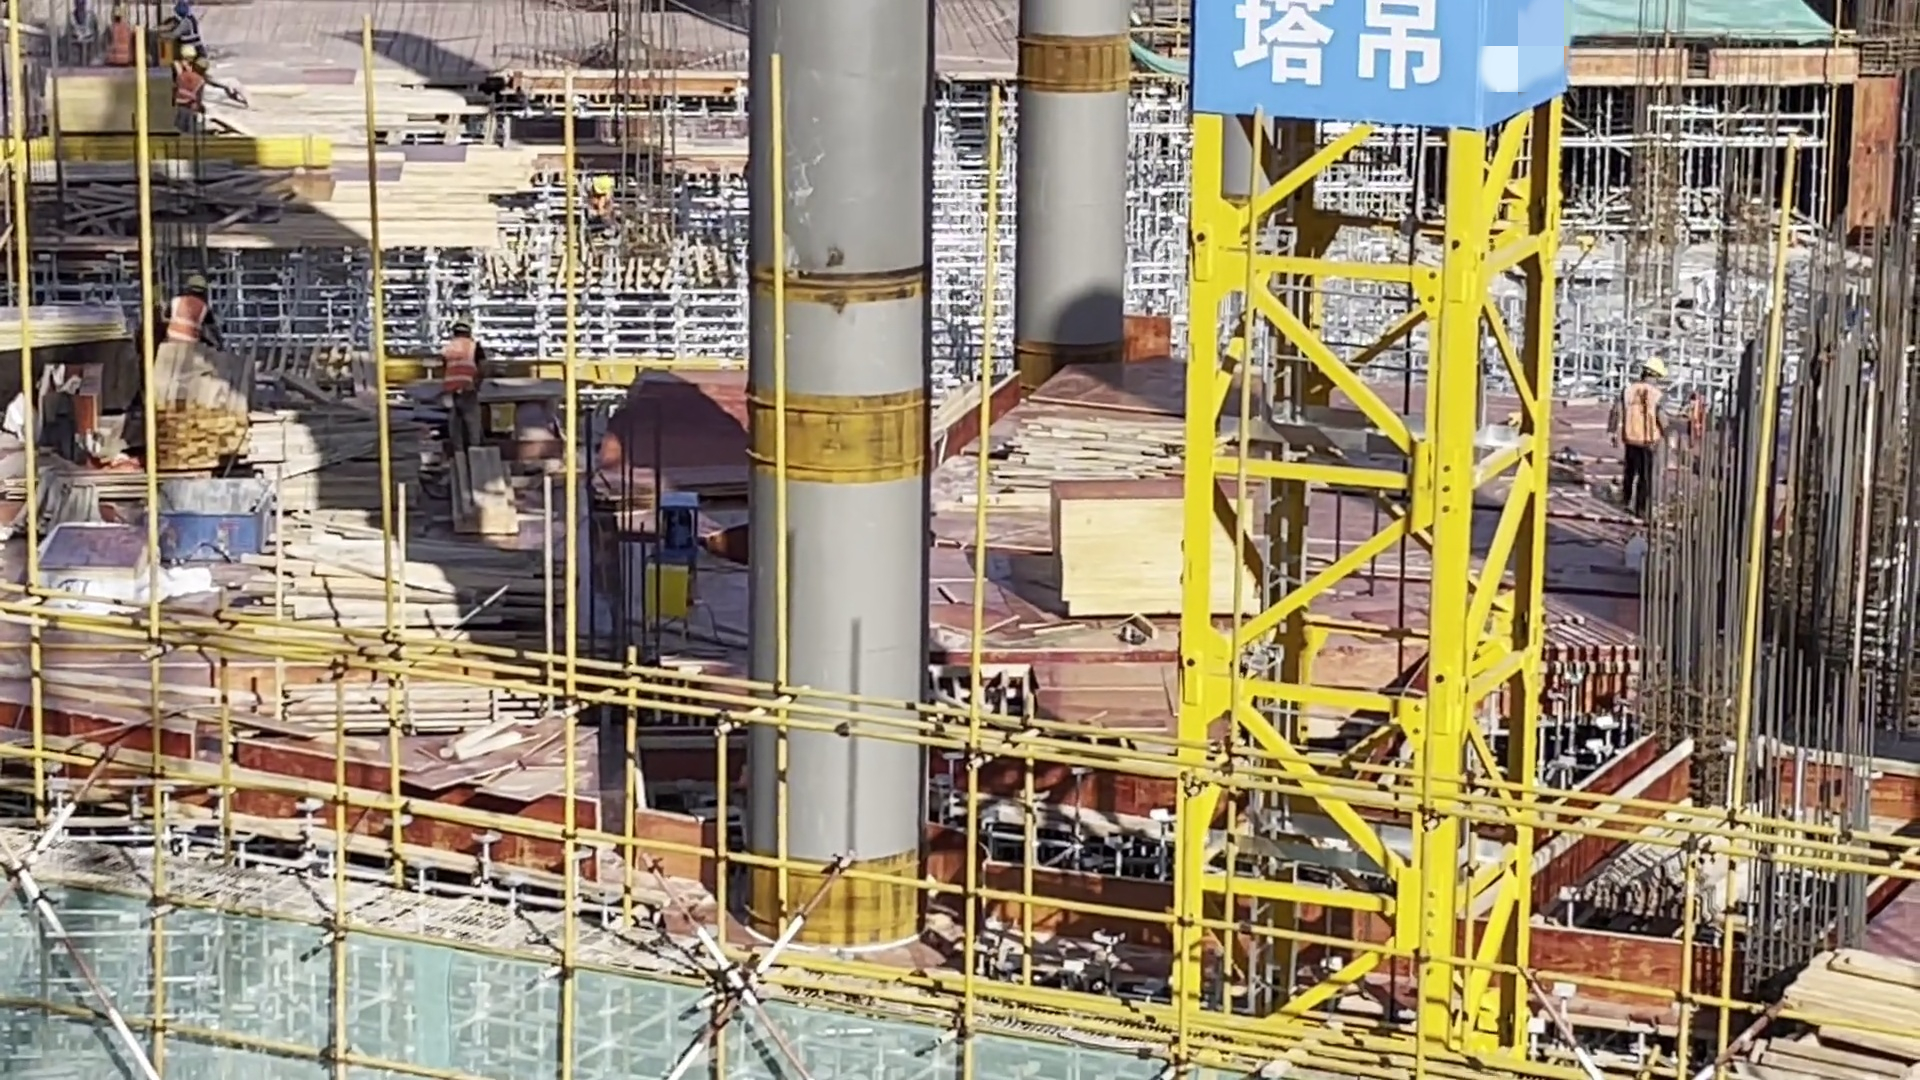helmet: (186, 271, 214, 298), (1641, 356, 1667, 383), (591, 174, 615, 197), (450, 314, 471, 334), (177, 44, 196, 62), (170, 2, 191, 19)
person: (1601, 356, 1677, 534), (429, 311, 491, 447), (166, 272, 225, 361), (176, 38, 208, 128), (583, 172, 620, 240), (166, 1, 205, 58), (101, 4, 135, 68)
vest: (1623, 382, 1674, 457), (440, 338, 479, 399), (170, 294, 213, 348), (103, 22, 137, 69), (174, 69, 204, 112), (174, 18, 203, 55)
